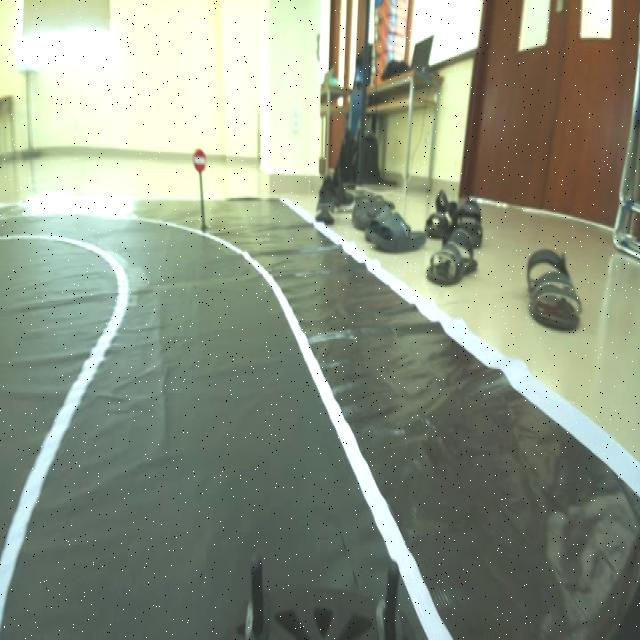no_entry: (184, 140, 212, 178)
